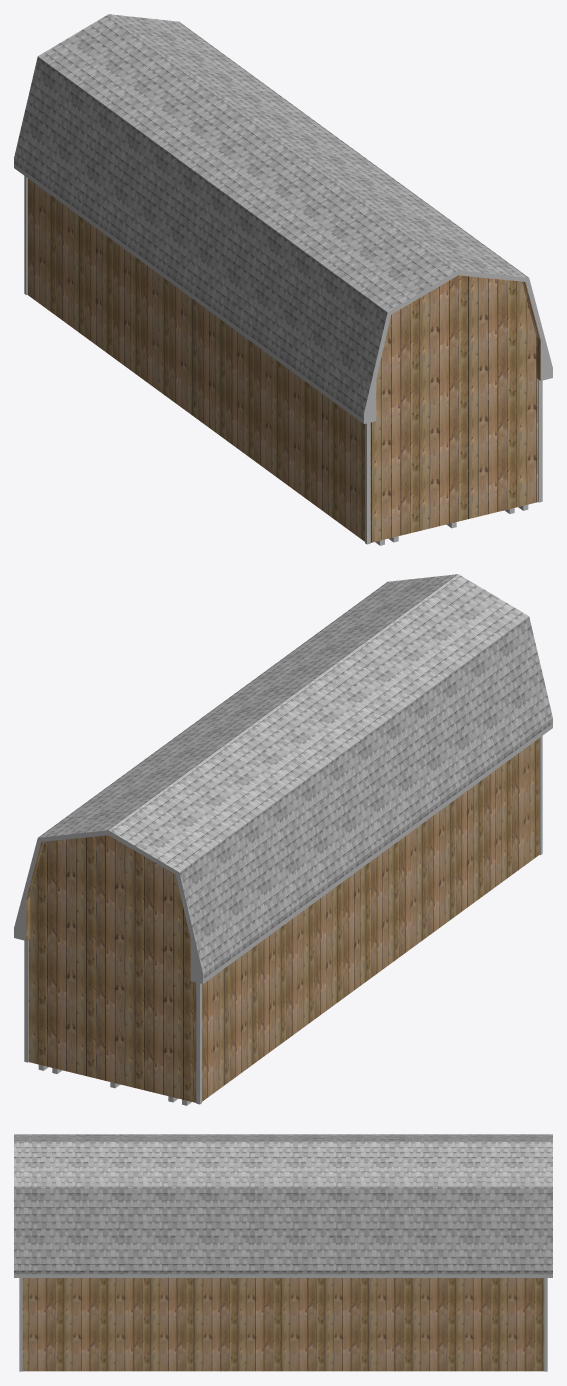
Rendered from Two Story Gambrel_12x40.obj.
3 renders of one model, top to bottom at view 1: azimuth 30°, elevation 25°; view 2: azimuth 150°, elevation 25°; view 3: azimuth 270°, elevation 25°, orthographic. The views are drawn at different scales.
Parts seen in each view (by area): view 1: Roof, Shed, Sides, Trim; view 2: Roof, Shed, Sides, Trim; view 3: Roof, Shed, Sides, Trim.
Part boxes in pixels (box(x1,y1,x2,y2)): Roof: box(14, 14, 528, 418); Shed: box(27, 178, 540, 542); Sides: box(14, 163, 552, 423); Trim: box(24, 176, 542, 544); Roof: box(38, 574, 552, 978); Shed: box(26, 738, 539, 1102); Sides: box(14, 723, 552, 983); Trim: box(24, 736, 542, 1104); Roof: box(14, 1134, 552, 1274); Shed: box(22, 1278, 544, 1371); Sides: box(14, 1274, 552, 1277); Trim: box(19, 1278, 547, 1371).
Size of the model in its own units: 3.9 by 5.14 by 12.5.
